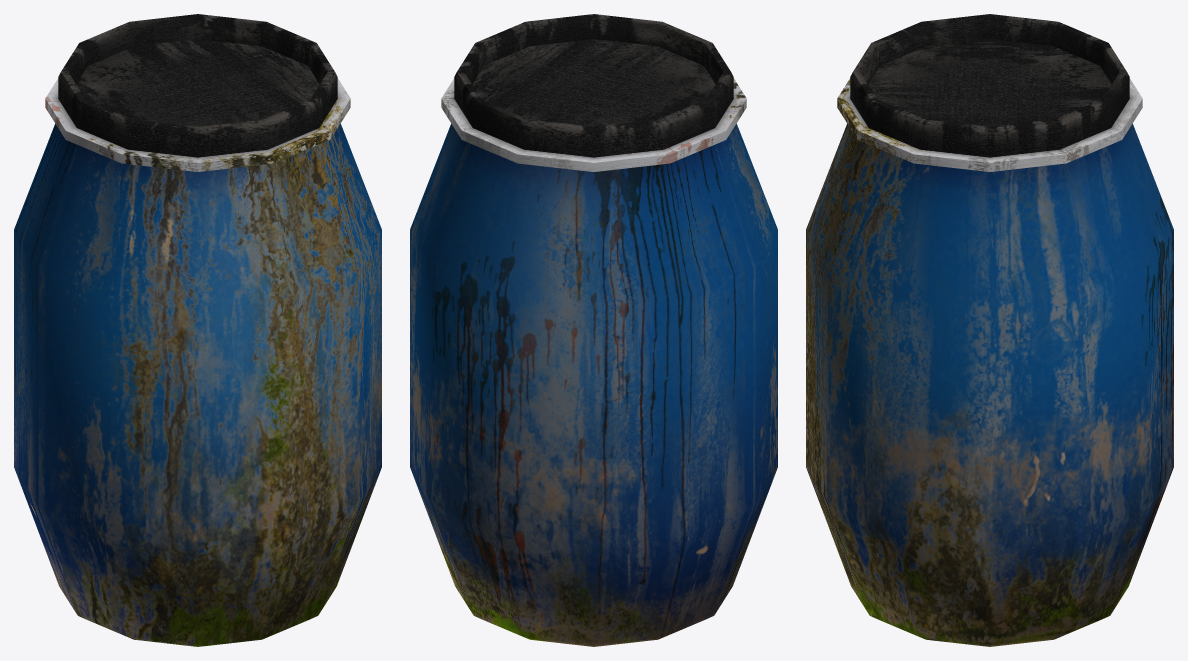
The model's file is barrel01.obj.
The picture shows the model from 3 angles, left to right: view 1: azimuth 30°, elevation 25°; view 2: azimuth 150°, elevation 25°; view 3: azimuth 270°, elevation 25°; orthographic projection.
Parts seen in each view (by area): view 1: Cylinder002; view 2: Cylinder002; view 3: Cylinder002.
Boxes of the visible parts, box(x1,y1,x2,y2) form: Cylinder002: box(14, 14, 381, 646); Cylinder002: box(410, 14, 777, 646); Cylinder002: box(806, 14, 1173, 646).
Bounding box in the file's own units: 0.7 × 1.09 × 0.7.
